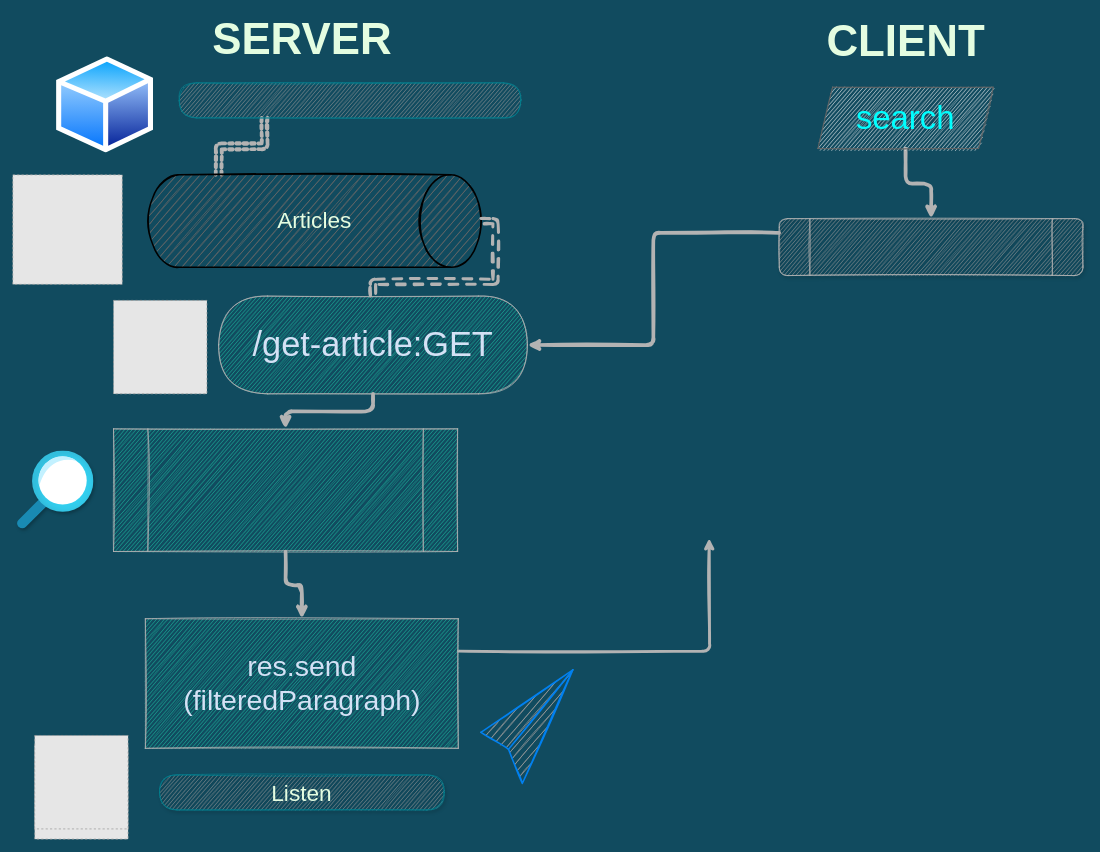
The diagram is 1100 pixels wide and 852 high, and some of its shapes have lost their labels. Grey dashed boxes stand in for pictures. Here are the shapes that lost their labels. From the top down, the centre of each, then its label:
the point at 349,100: node
the point at 931,248: handleSearch
the point at 285,490: regEx
